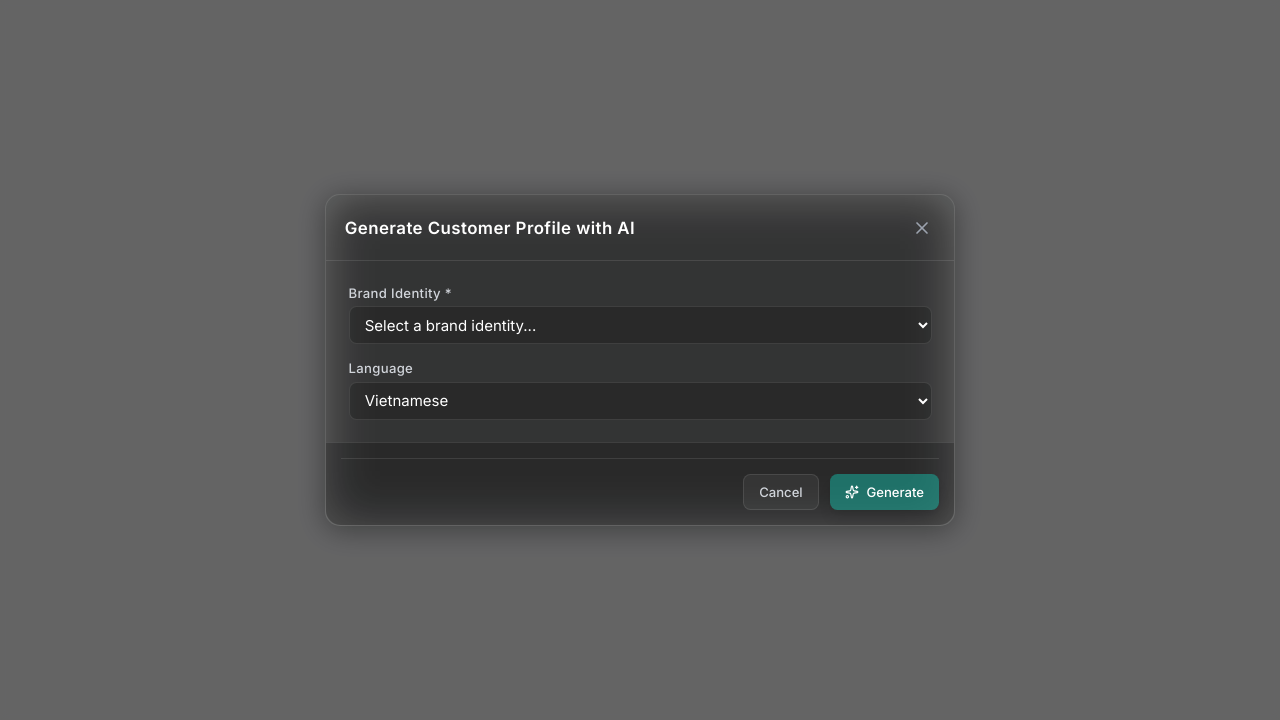
Scenario: CustomerProfileAIModal › displays error message on failure
Select "b1" in the dropdown below "Brand Identity *": (640, 325) [348,306,932,344]
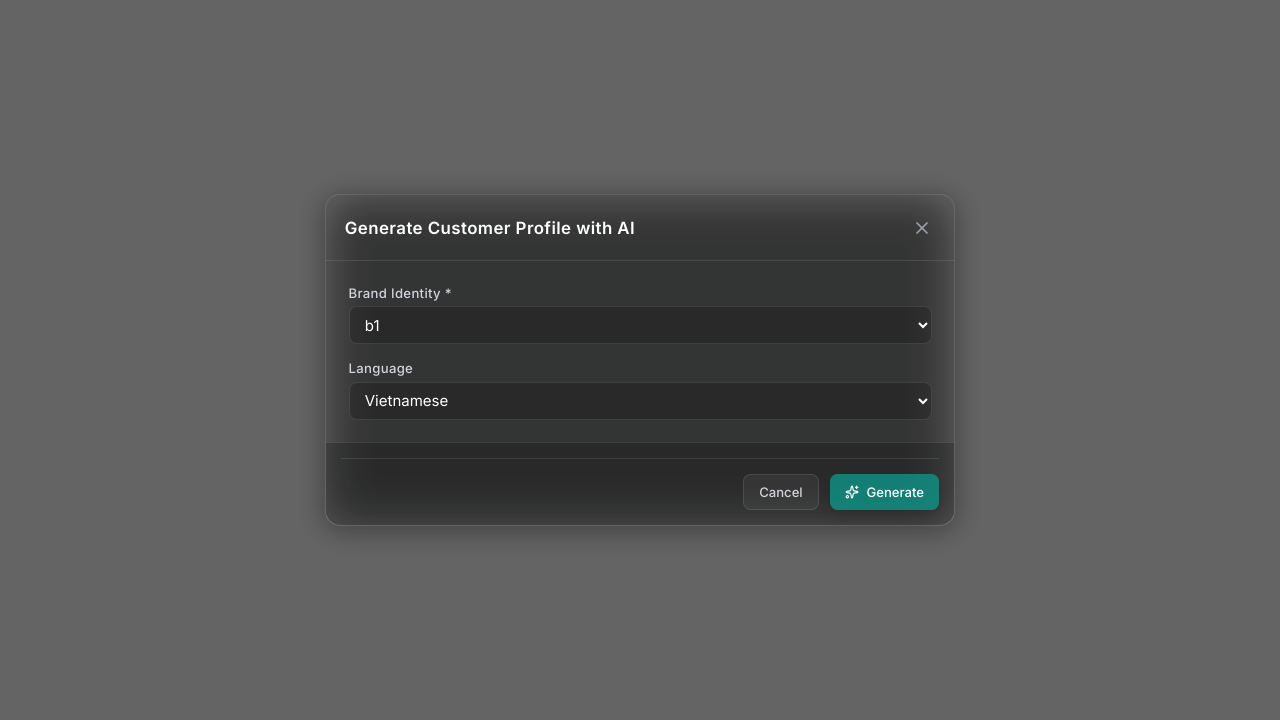
Click the button "Generate": (884, 492) [830,474,939,510]
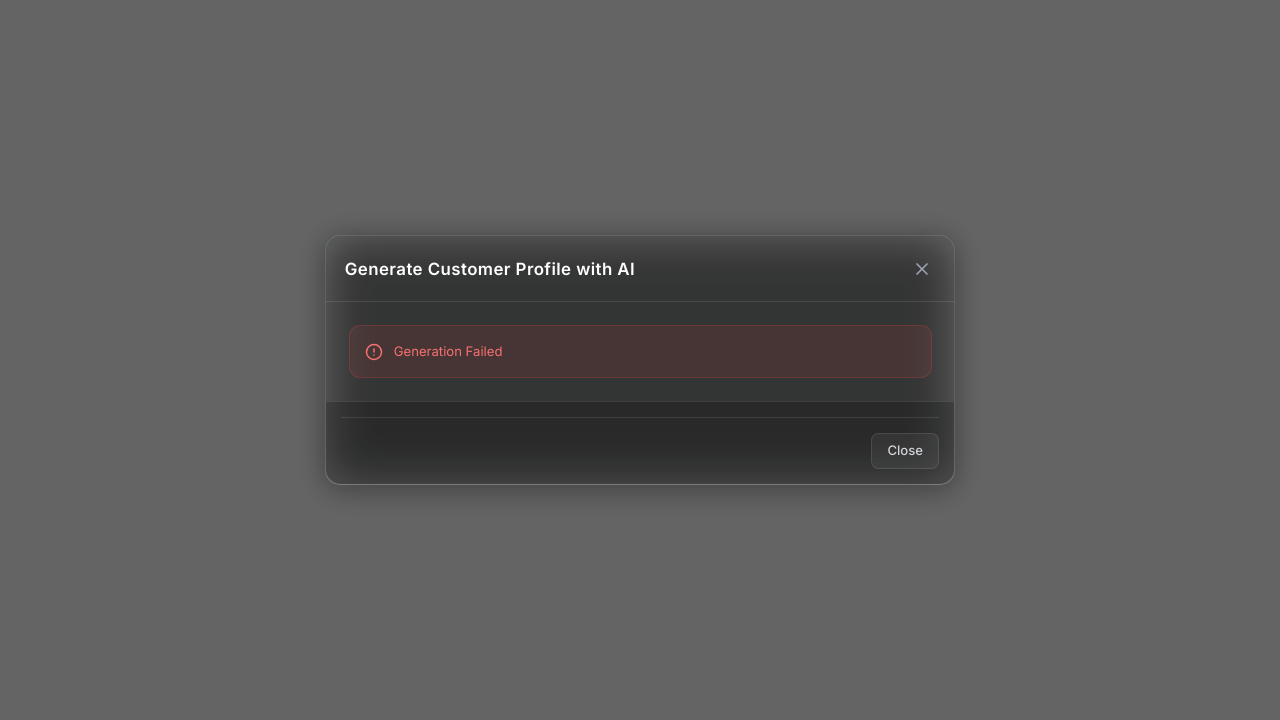
Expected: the text "Generation Failed" is shown, [394,341,502,362]
